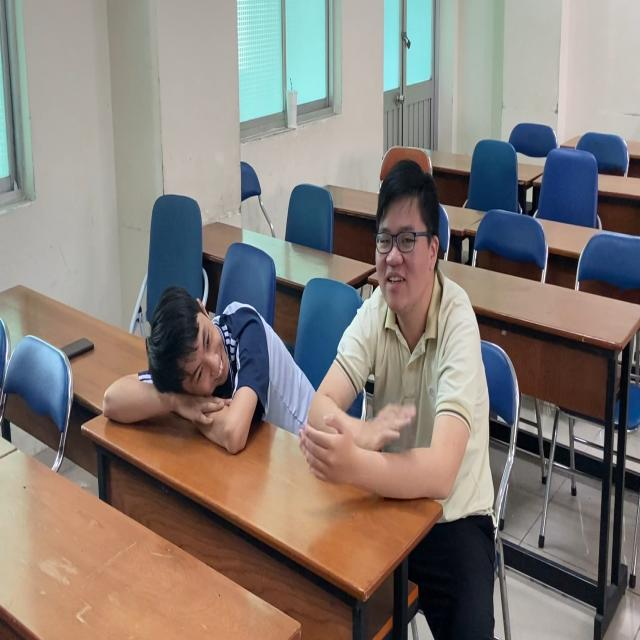sleep: (95, 277, 304, 457)
